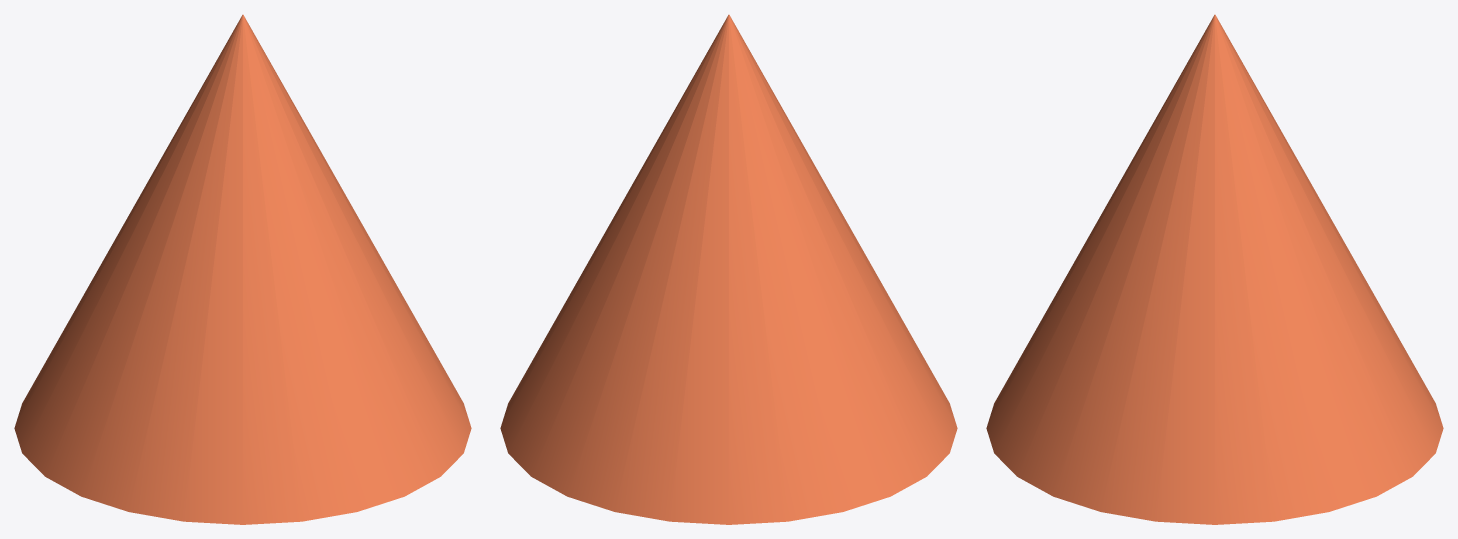
3 views of the same model, side by side, from view 1: azimuth 30°, elevation 25°; view 2: azimuth 150°, elevation 25°; view 3: azimuth 270°, elevation 25° (orthographic).
Parts seen in each view (by area): view 1: cone; view 2: cone; view 3: cone.
Part boxes in pixels (bbox=[...]): cone: bbox=[14, 14, 471, 524]; cone: bbox=[500, 14, 957, 524]; cone: bbox=[986, 14, 1443, 524].
Size of the model in its own units: 1.2 by 1.2 by 1.2.
